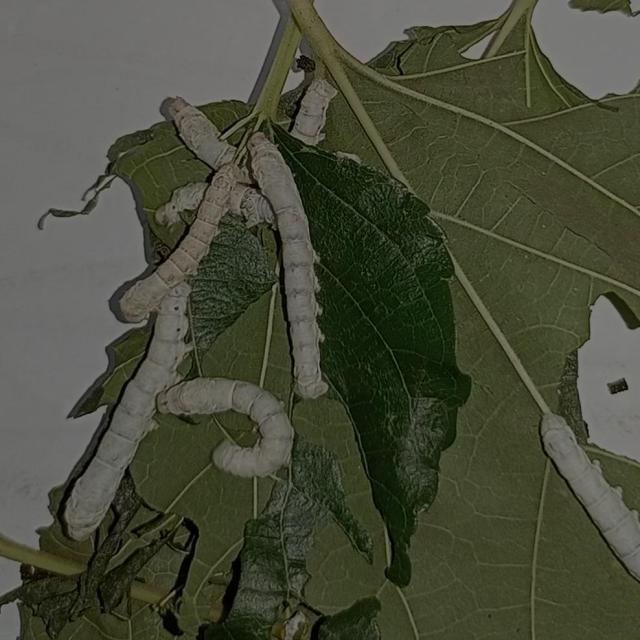Healthy: (61, 269, 194, 552), (236, 123, 338, 377), (528, 398, 640, 591), (154, 369, 298, 487)
